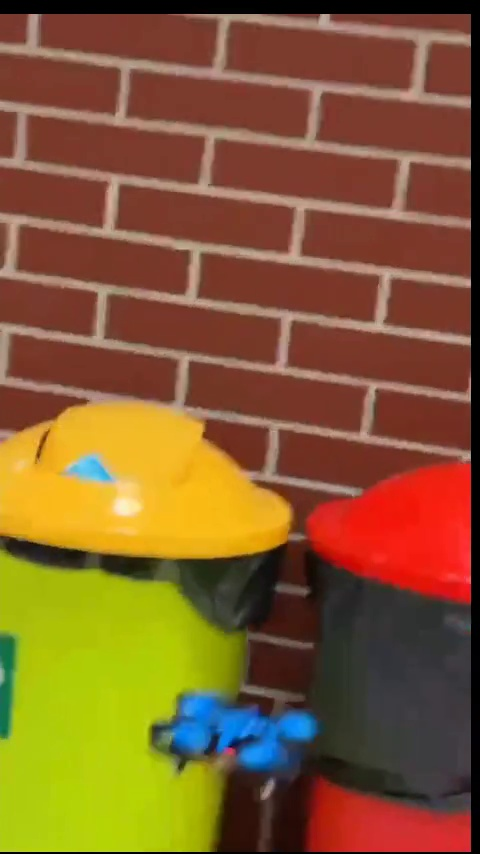drone: (153, 694, 317, 780)
